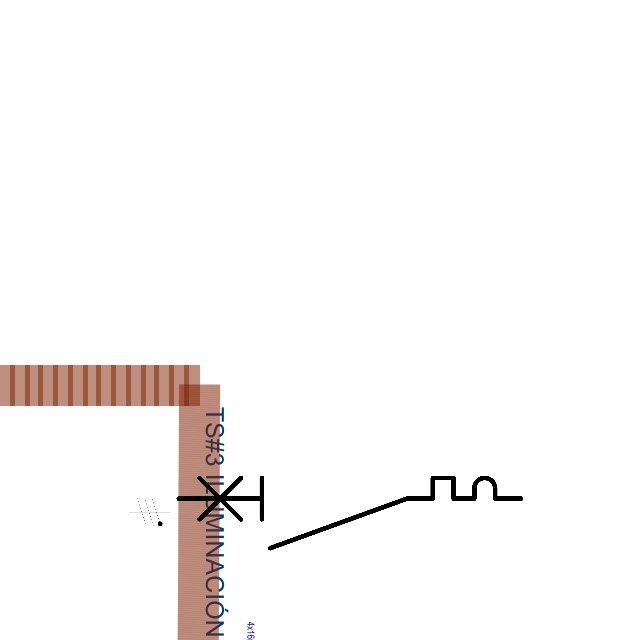interruptor_termomagnetico: (169, 469, 529, 557)
